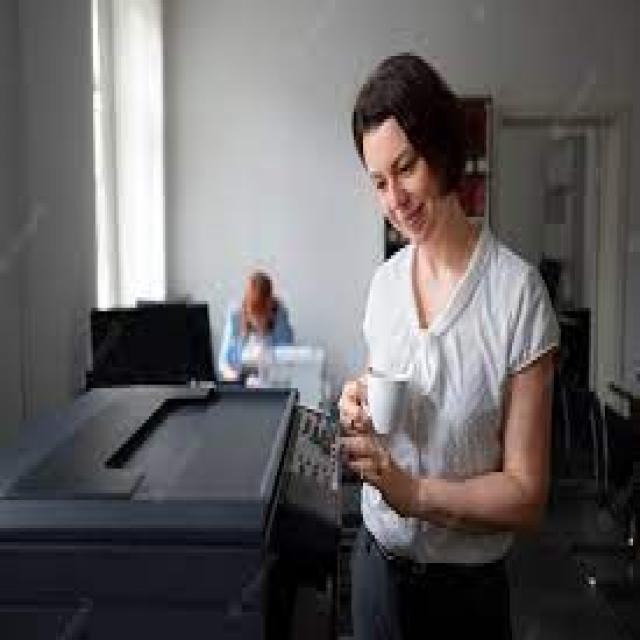printer: (0, 357, 349, 616)
